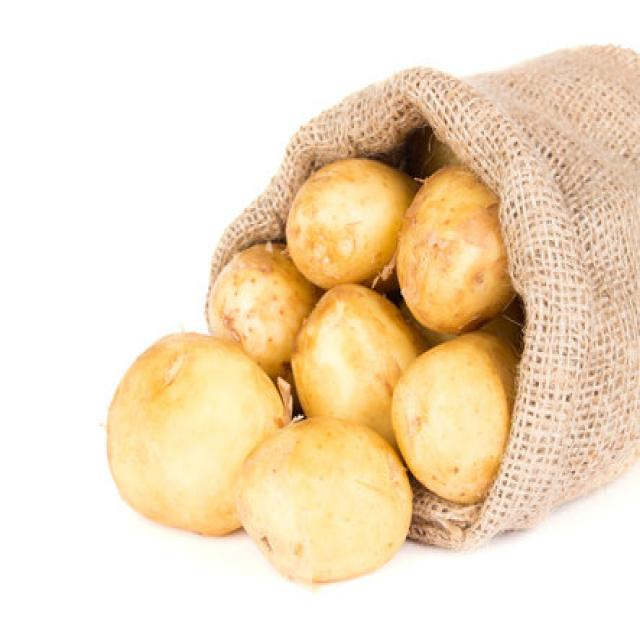Potato: (105, 331, 289, 537), (234, 414, 413, 583), (390, 331, 519, 505), (289, 282, 426, 442), (394, 164, 516, 334), (285, 156, 416, 290), (206, 242, 318, 377)
